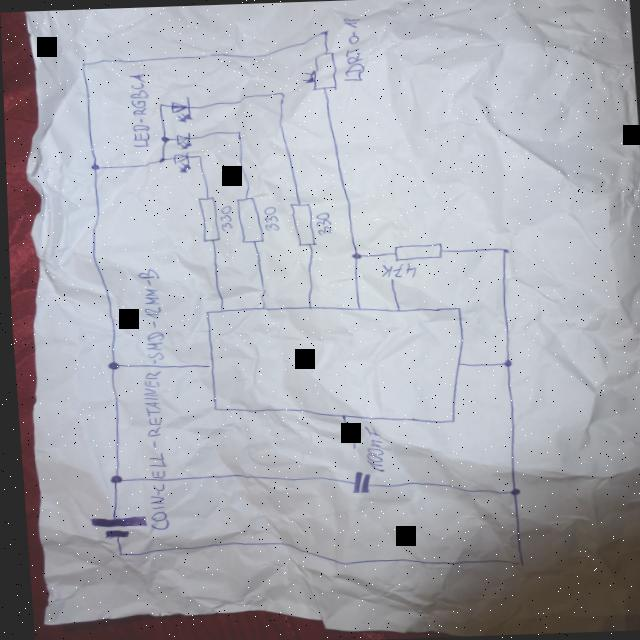capacitor: (346, 470, 368, 494)
diode: (167, 93, 192, 124), (170, 150, 191, 173), (172, 130, 192, 150)
junction: (102, 472, 121, 486), (102, 357, 118, 372), (497, 358, 510, 368), (504, 486, 517, 496), (347, 251, 361, 260), (157, 134, 167, 144), (86, 162, 98, 170), (497, 247, 508, 254), (320, 28, 328, 36), (154, 101, 163, 108), (156, 156, 164, 163), (111, 550, 120, 556), (275, 91, 284, 97), (78, 60, 87, 66), (511, 560, 520, 566), (233, 129, 241, 135), (194, 153, 201, 159)
resistor: (298, 49, 338, 92), (231, 196, 262, 243), (284, 200, 314, 248), (194, 195, 219, 242), (387, 242, 443, 262)
source: (83, 511, 146, 541)
text: (127, 266, 174, 531), (125, 72, 150, 146), (337, 17, 365, 82), (356, 425, 385, 472), (375, 262, 416, 278), (256, 204, 278, 233), (213, 202, 233, 232), (311, 210, 330, 235)
